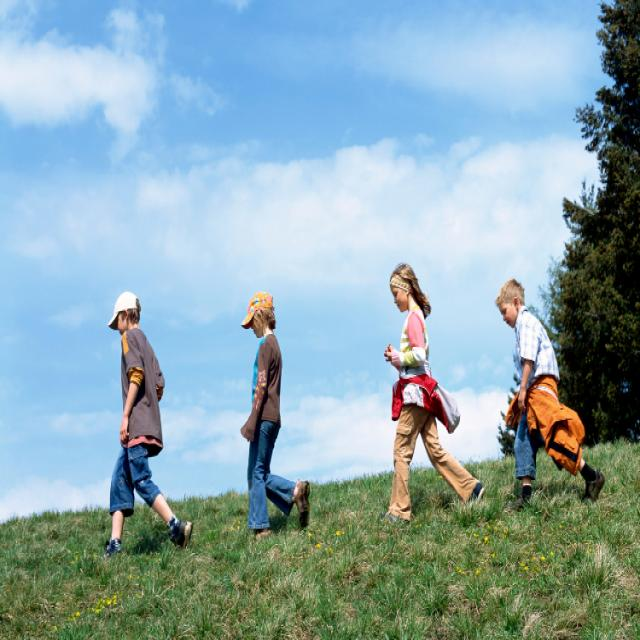Person: (383, 264, 486, 520), (493, 279, 605, 503), (104, 291, 192, 551), (240, 289, 310, 543)
